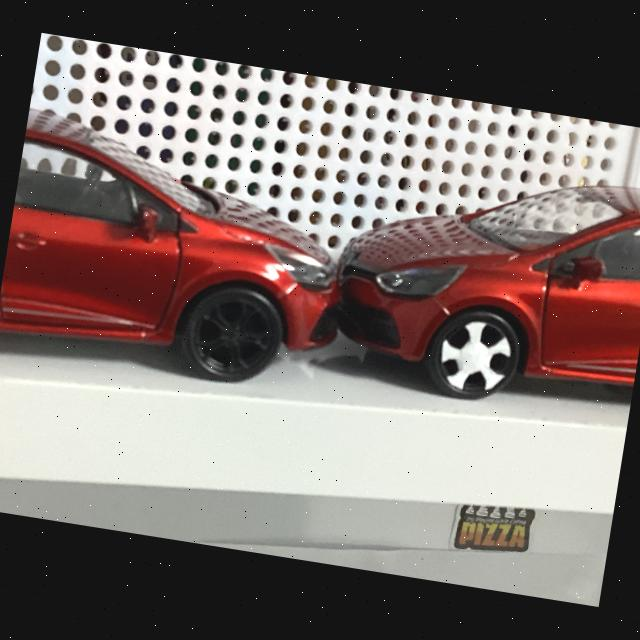Dogru_Jant: (418, 302, 525, 406), (190, 290, 278, 377)
